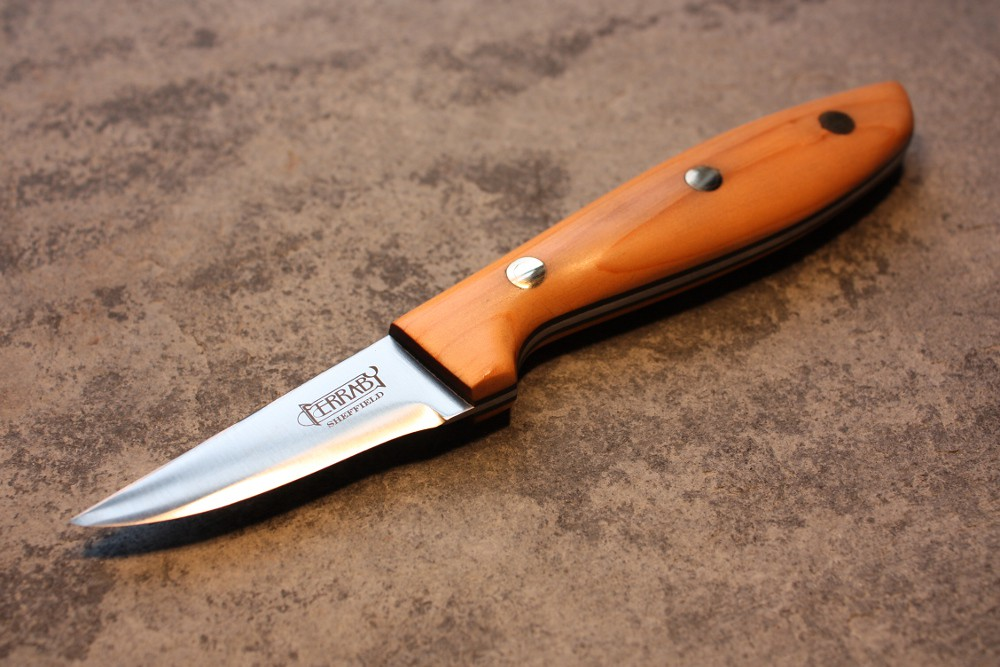knife: (62, 73, 931, 546)
